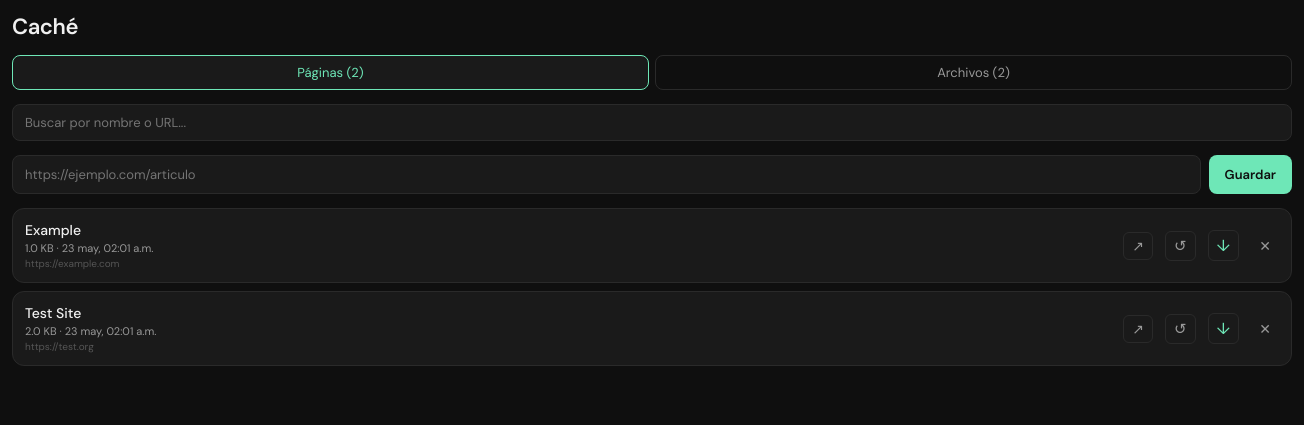
Scenario: CachePage › muestra error con URL inválida
This screenshot has width=1304, height=425.
Type "no-es-url" into the field with placeholder "https://ejemplo.com/articulo" at (606, 174), box [12,155,1201,194]
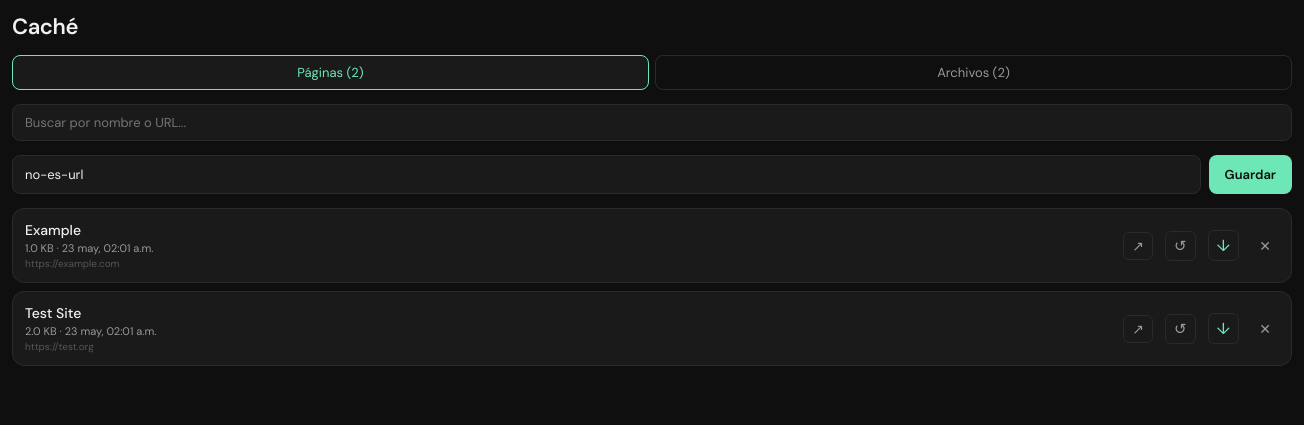
Click the button "Guardar" at (1250, 174), box [1209,155,1292,194]
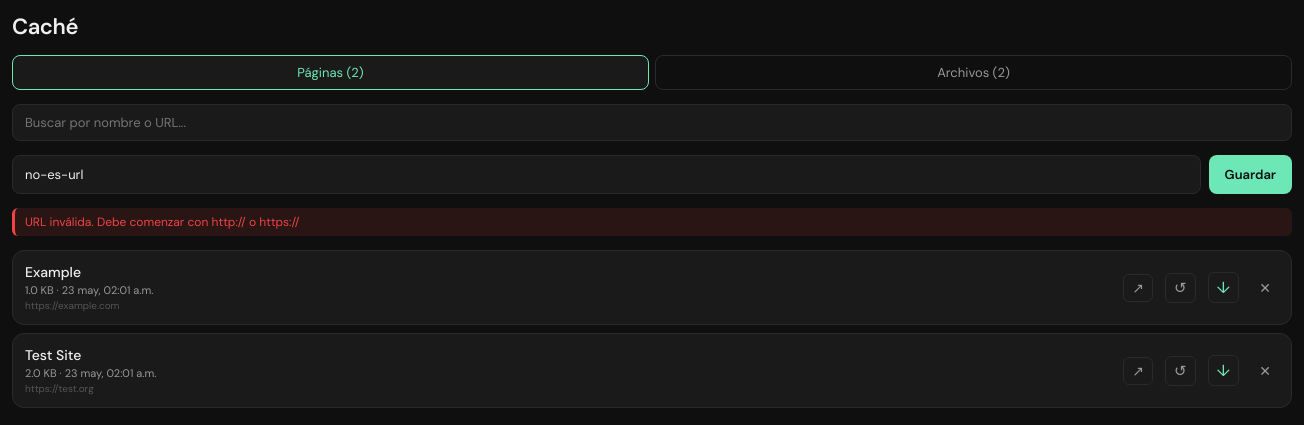
Now the text "URL inválida. Debe comenzar con http:// o https://" is shown, box [12,208,1292,236]
